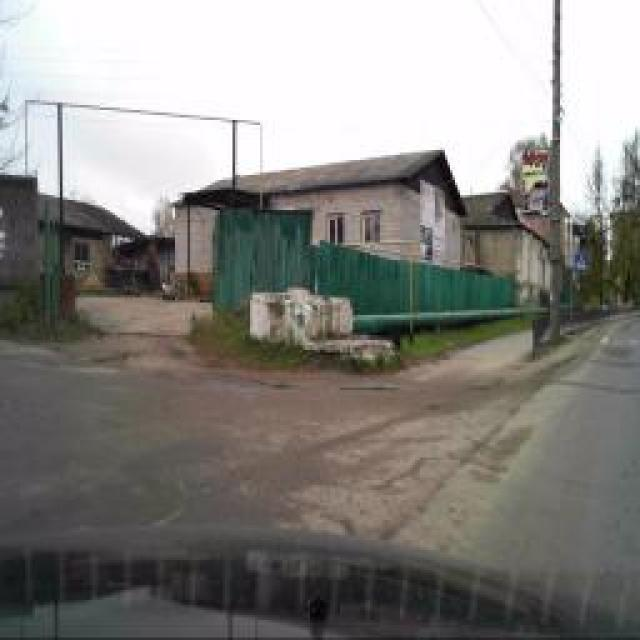sign: (575, 252, 587, 272)
